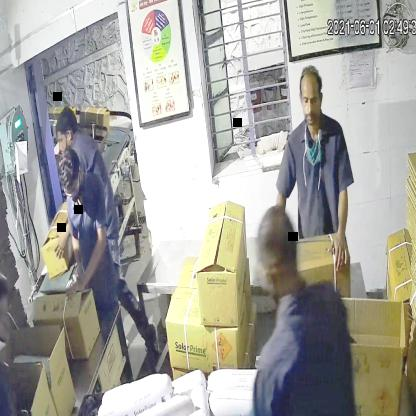no_goggles: (298, 88, 324, 112)
